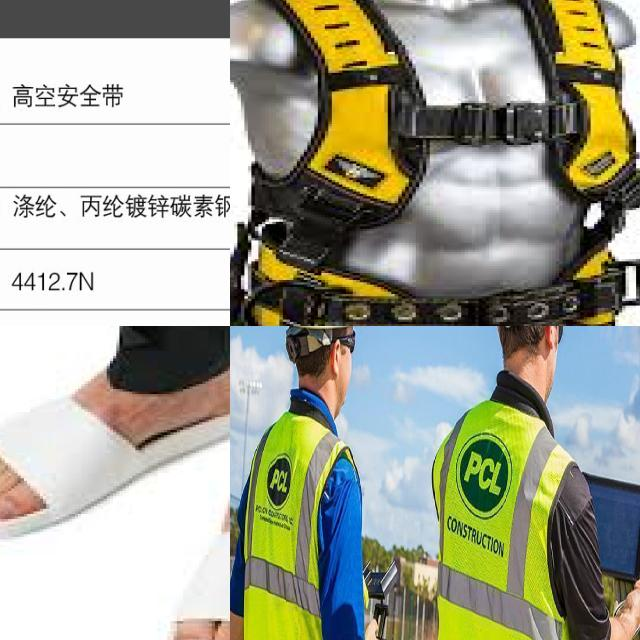Harness: (230, 0, 640, 326)
Sandals: (168, 435, 230, 640)
face_nomask: (326, 326, 358, 419)
hand_noglove: (612, 574, 640, 640), (359, 620, 396, 640)
person: (456, 326, 580, 640), (263, 326, 364, 640)
vest: (438, 407, 573, 640), (249, 406, 352, 640)
